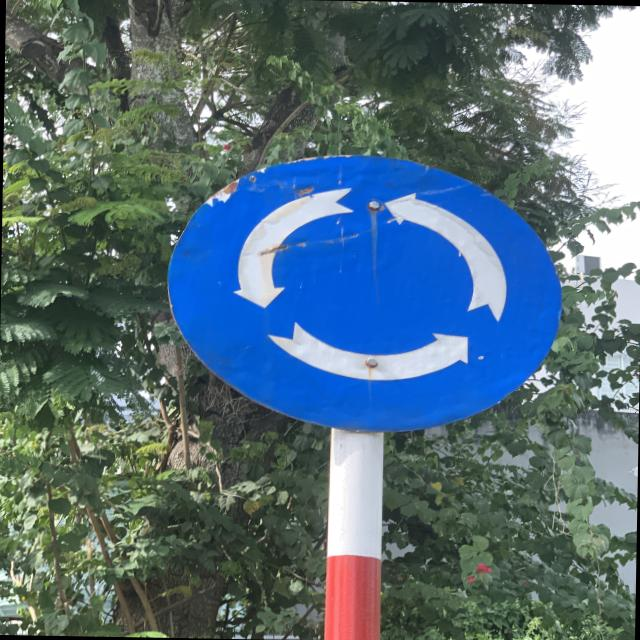Xe_Bus: (160, 144, 570, 438)
